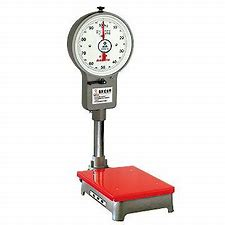Industrial Scale: (66, 5, 175, 221)
